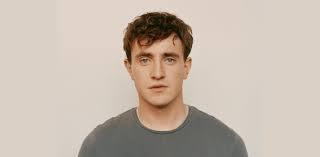person: (115, 8, 197, 108)
